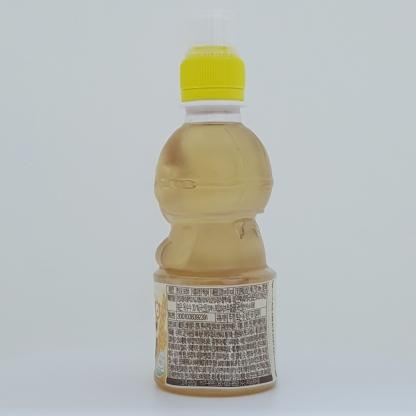--------220ML: (153, 9, 278, 398)
